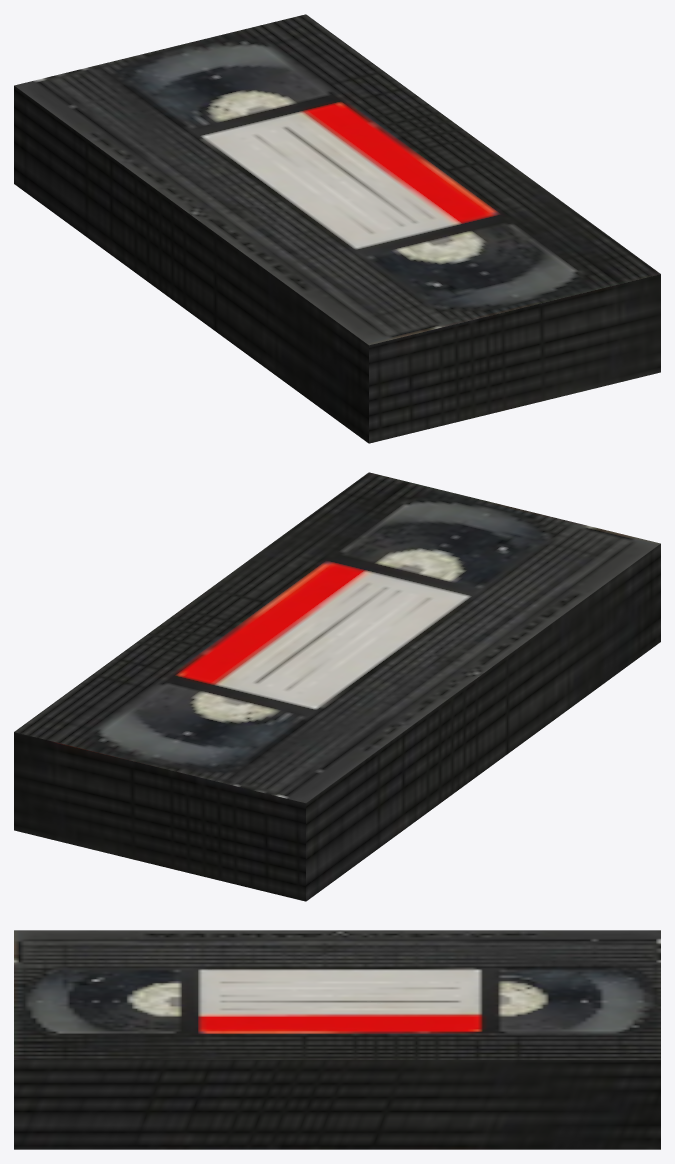
Rendered from psx_vhs_demo.glb.
The picture shows the model from 3 angles, top to bottom: view 1: azimuth 30°, elevation 25°; view 2: azimuth 150°, elevation 25°; view 3: azimuth 270°, elevation 25°; orthographic projection. The views are drawn at different scales.
Parts seen in each view (by area): view 1: VHS; view 2: VHS; view 3: VHS.
Part boxes in pixels (x1=…): VHS: x1=14, y1=14, x2=660, y2=443; VHS: x1=14, y1=472, x2=660, y2=901; VHS: x1=14, y1=930, x2=660, y2=1149.
Size of the model in its own units: 0.9502 by 0.3057 by 2.
1 material, 1 textured.
